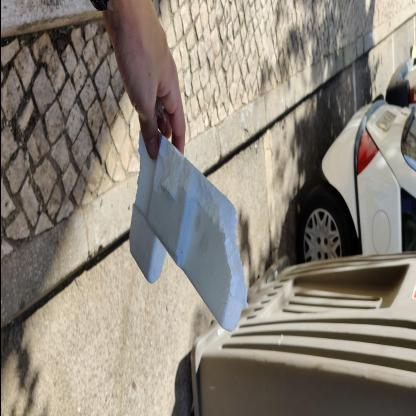kopuk: (127, 129, 249, 339)
